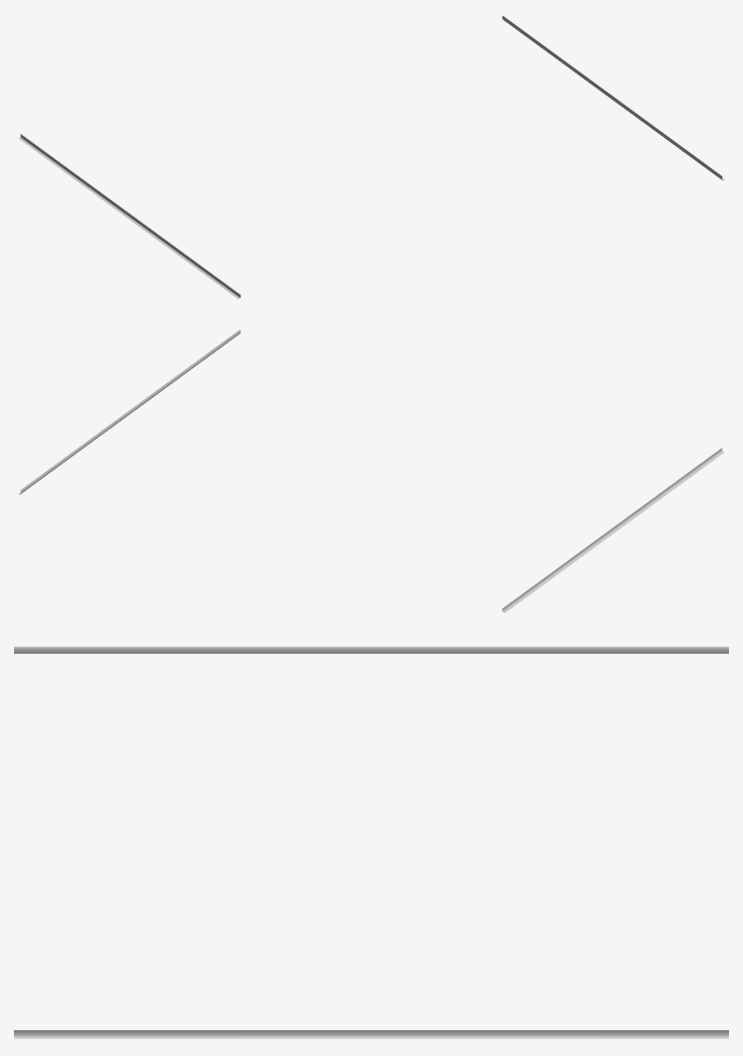
File: GSDTunnel-4L-Lights.FBX
3 views of the same model, one above another, from view 1: azimuth 30°, elevation 25°; view 2: azimuth 150°, elevation 25°; view 3: azimuth 270°, elevation 25° (orthographic). The views are drawn at different scales.
Visible parts, largest first — view 1: GSDTunnel-4L-Lights; view 2: GSDTunnel-4L-Lights; view 3: GSDTunnel-4L-Lights.
Boxes of the visible parts, x1,y1,x2,y2 form: GSDTunnel-4L-Lights: (18, 15, 724, 298); GSDTunnel-4L-Lights: (18, 329, 724, 612); GSDTunnel-4L-Lights: (14, 646, 728, 1038).
Size of the model in its own units: 26 by 0.21 by 20.
